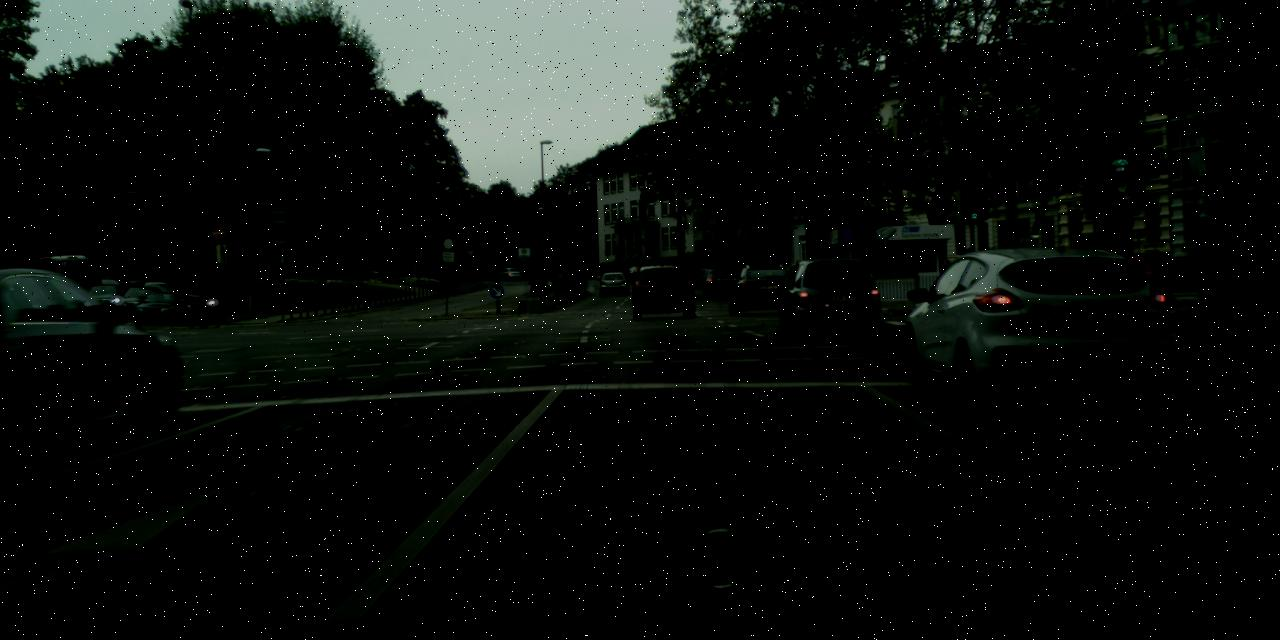ped: (1184, 198, 1252, 362)
